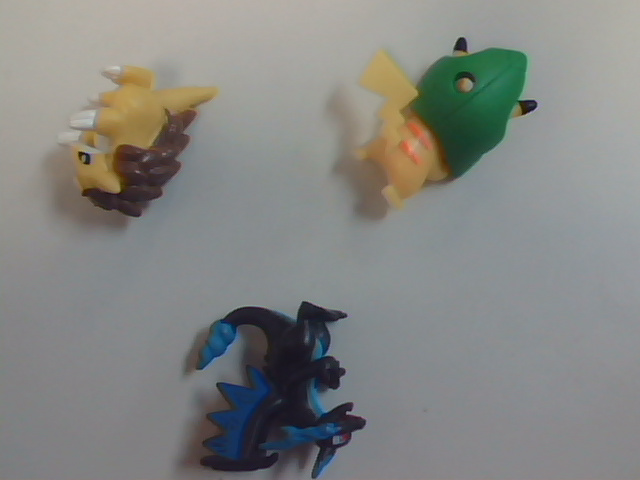charizard: (180, 268, 406, 480)
pikachu: (341, 15, 545, 222)
sandslash: (50, 45, 232, 240)
